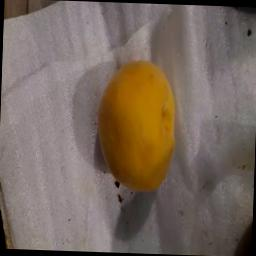Peach Unripe: (85, 60, 187, 196)
